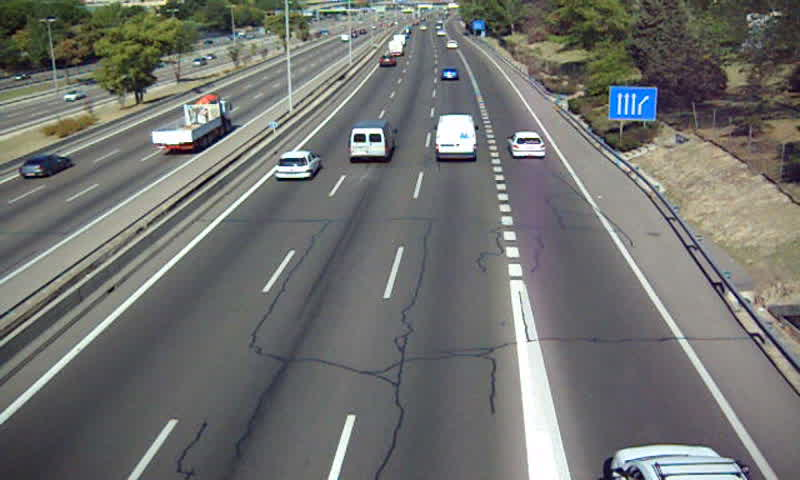car: (273, 150, 320, 182), (508, 129, 545, 157), (440, 67, 460, 82), (378, 55, 396, 66)
van: (435, 114, 477, 161), (349, 120, 397, 161)
